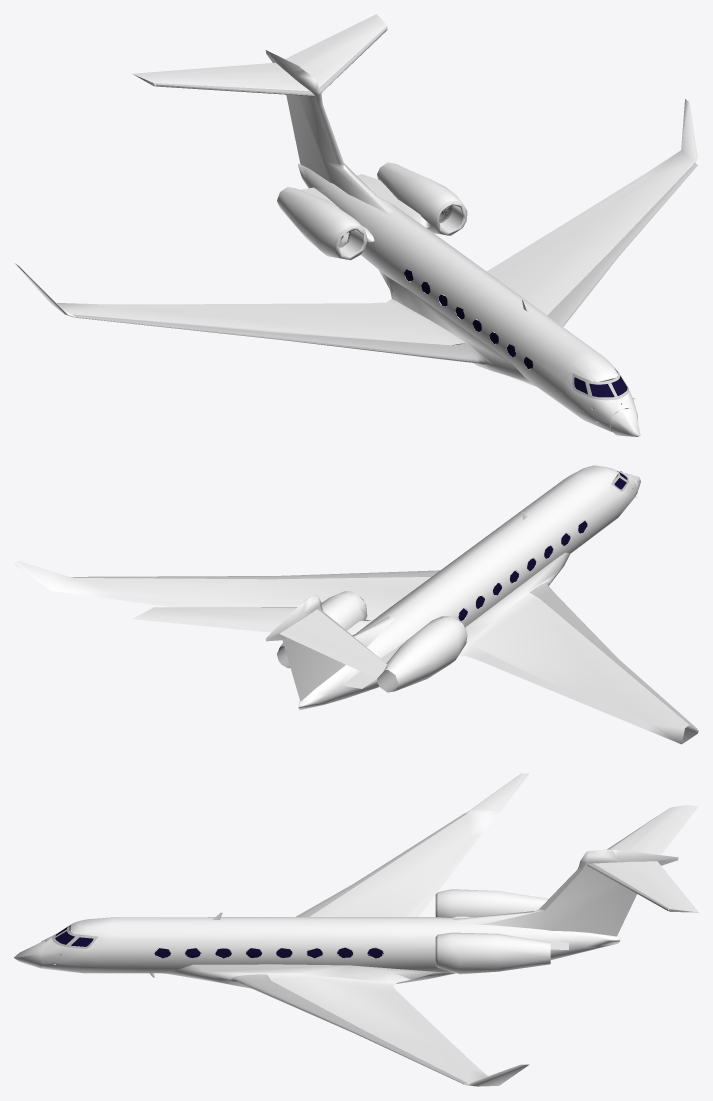
3 renders of one model, top to bottom at view 1: azimuth 30°, elevation 25°; view 2: azimuth 150°, elevation 25°; view 3: azimuth 270°, elevation 25°, orthographic. The views are drawn at different scales.
Parts seen in each view (by area): view 1: Object_2, Object_7, Object_3; view 2: Object_2, Object_7, Object_3; view 3: Object_2, Object_7, Object_3.
Boxes of the visible parts, box(x1,y1,x2,y2) form: Object_2: box(14, 14, 698, 436); Object_7: box(73, 26, 697, 425); Object_3: box(404, 269, 627, 397); Object_2: box(14, 465, 698, 744); Object_7: box(73, 467, 697, 728); Object_3: box(458, 471, 627, 620); Object_2: box(14, 773, 698, 1086); Object_7: box(51, 813, 669, 1084); Object_3: box(55, 925, 383, 958).
Bounding box in the file's own units: 12.53 × 2.67 × 12.45.
3 materials, 3 textured.
